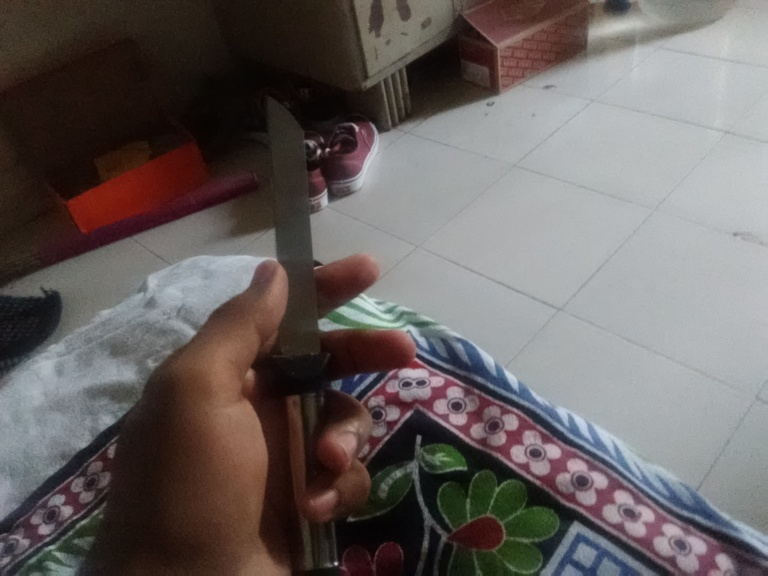knife: (264, 99, 342, 572)
